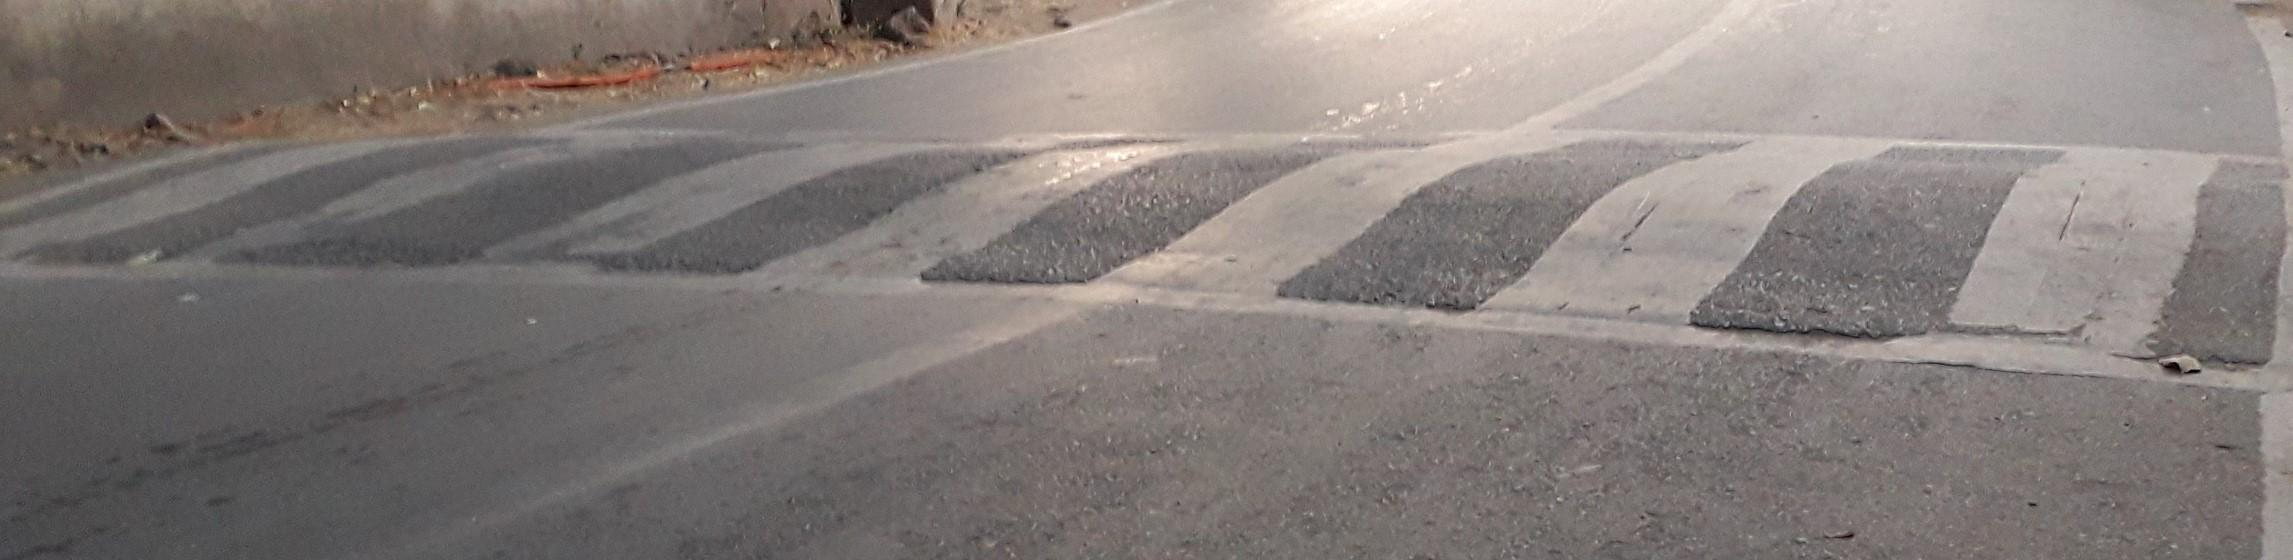speed-bump: (8, 122, 2293, 368)
